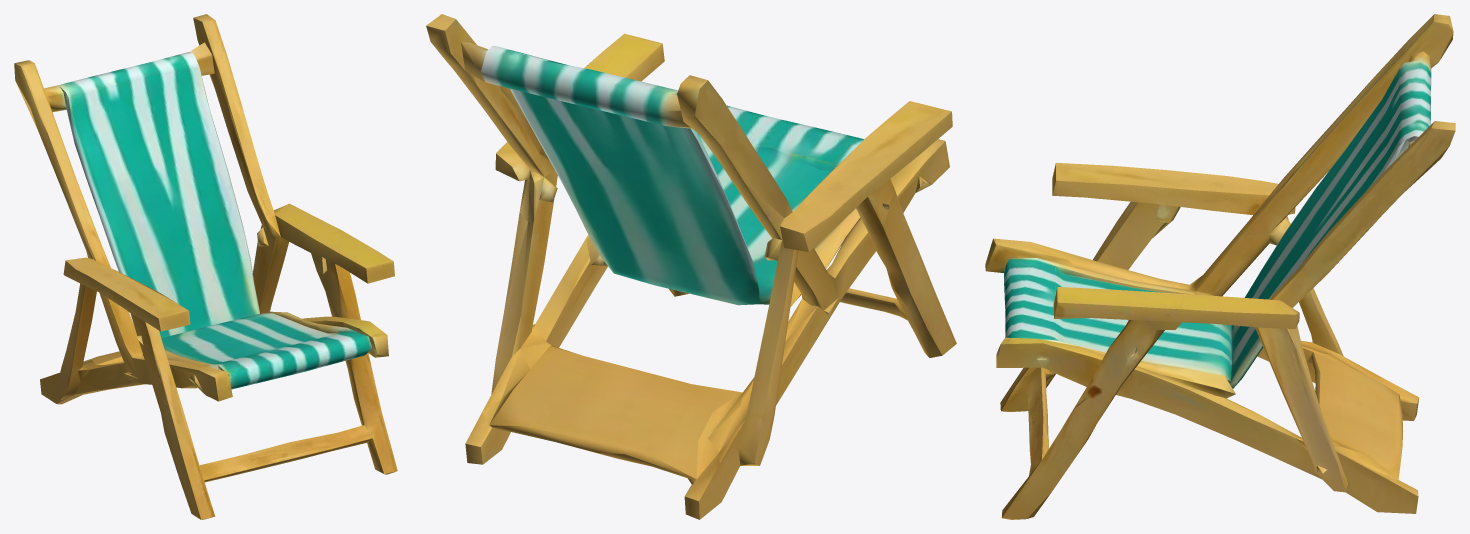
File: beachChair.glb
3 views of the same model, side by side, from view 1: azimuth 30°, elevation 25°; view 2: azimuth 150°, elevation 25°; view 3: azimuth 270°, elevation 25° (orthographic). The views are drawn at different scales.
Visible parts, largest first — view 1: model; view 2: model; view 3: model.
Part boxes in pixels (box(x1,y1,x2,y2)): model: box(14, 14, 397, 519); model: box(426, 14, 956, 519); model: box(985, 14, 1455, 519).
Size of the model in its own units: 1.33 by 1.76 by 1.91.
1 material, 1 textured.
